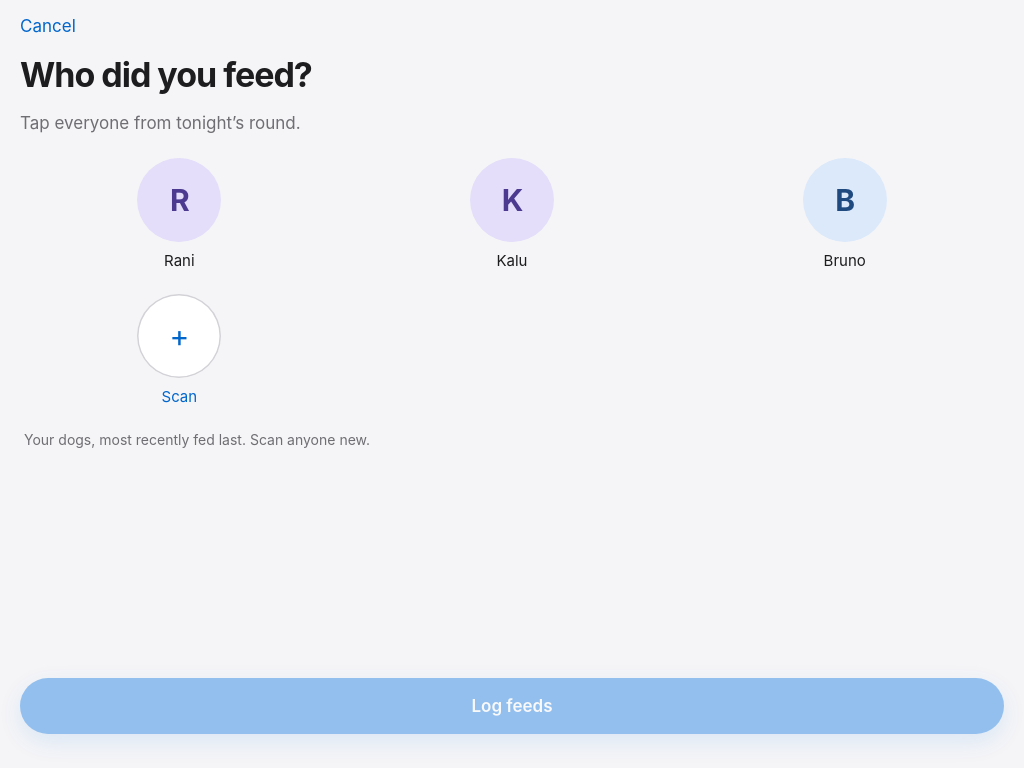
Scenario: V11 who did you feed › lists my dogs least recently fed first, multi-selects, and logs the round in one batch
Expected: the heading "Who did you feed?" is shown, x1=20 y1=54 x2=312 y2=95
Expected: the text "Tap everyone from tonight’s round." is shown, x1=20 y1=113 x2=301 y2=133
Click the button "R Rani".
click(179, 215)  # box x1=20 y1=154 x2=339 y2=276
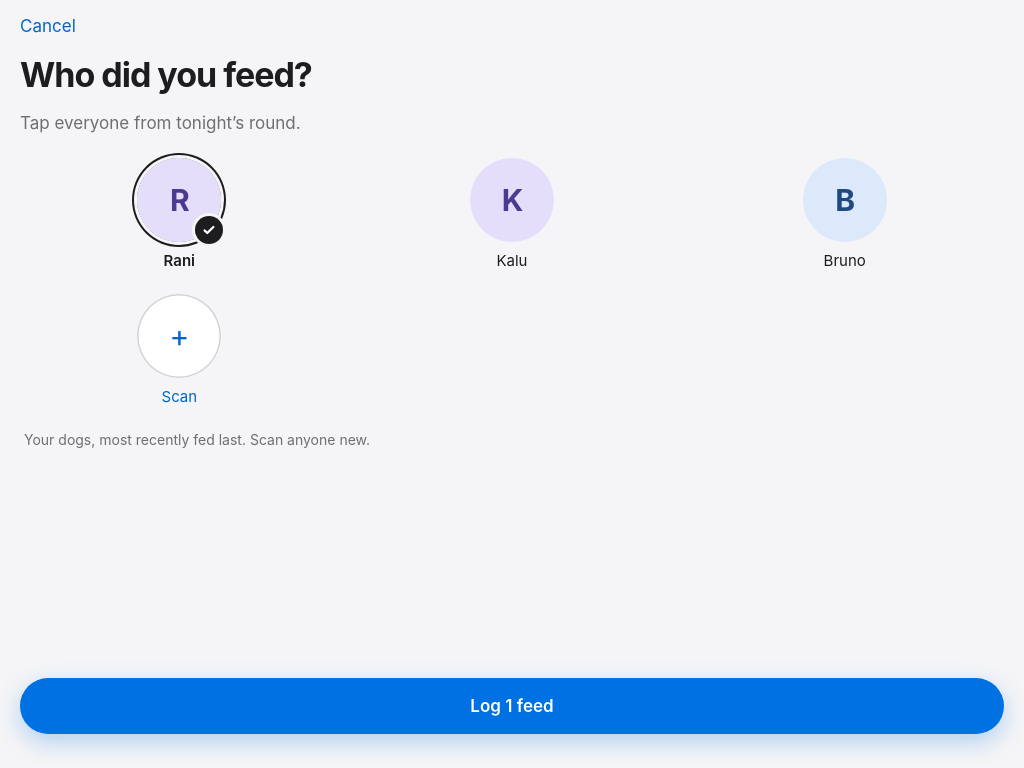
Click the button "K Kalu".
click(512, 215)  # box x1=353 y1=154 x2=671 y2=276
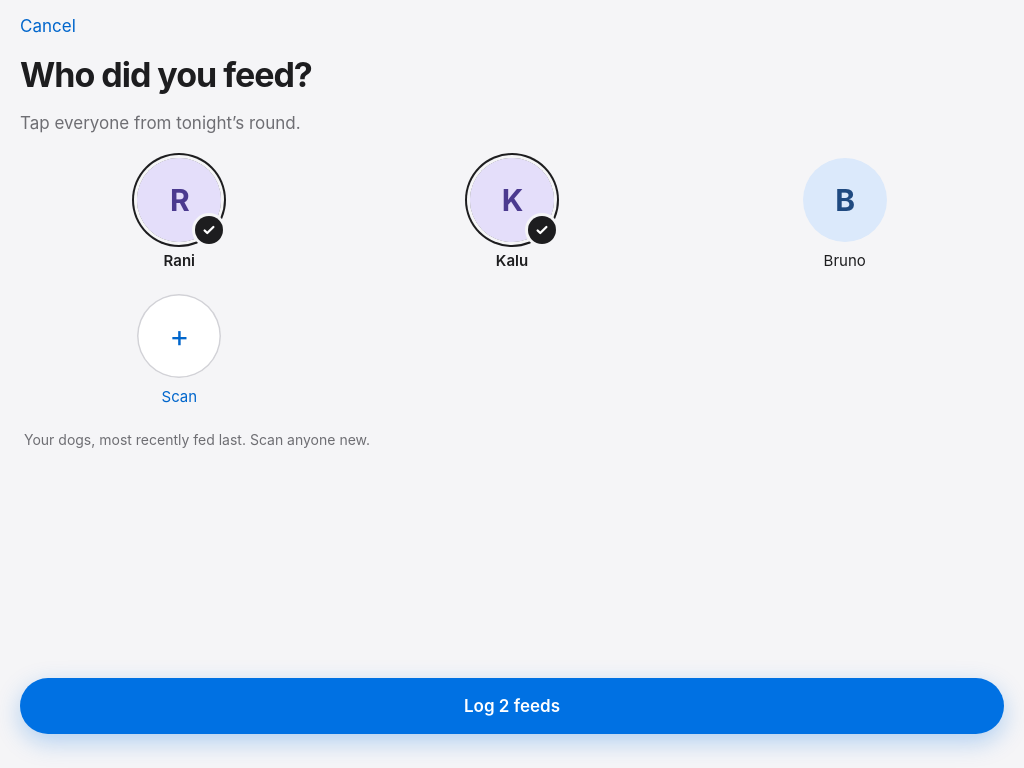
Click the button "Log 2 feeds".
click(512, 706)  # box x1=20 y1=678 x2=1004 y2=734
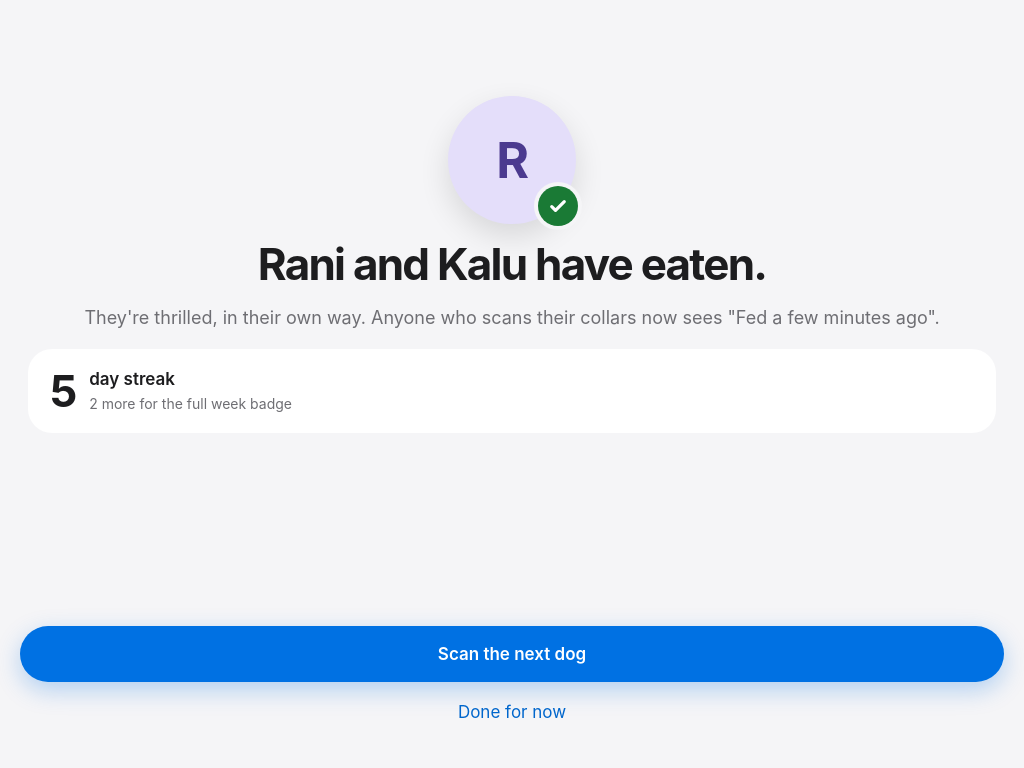
Expected: the heading "Rani and Kalu have eaten." is shown, x1=258 y1=242 x2=766 y2=287
